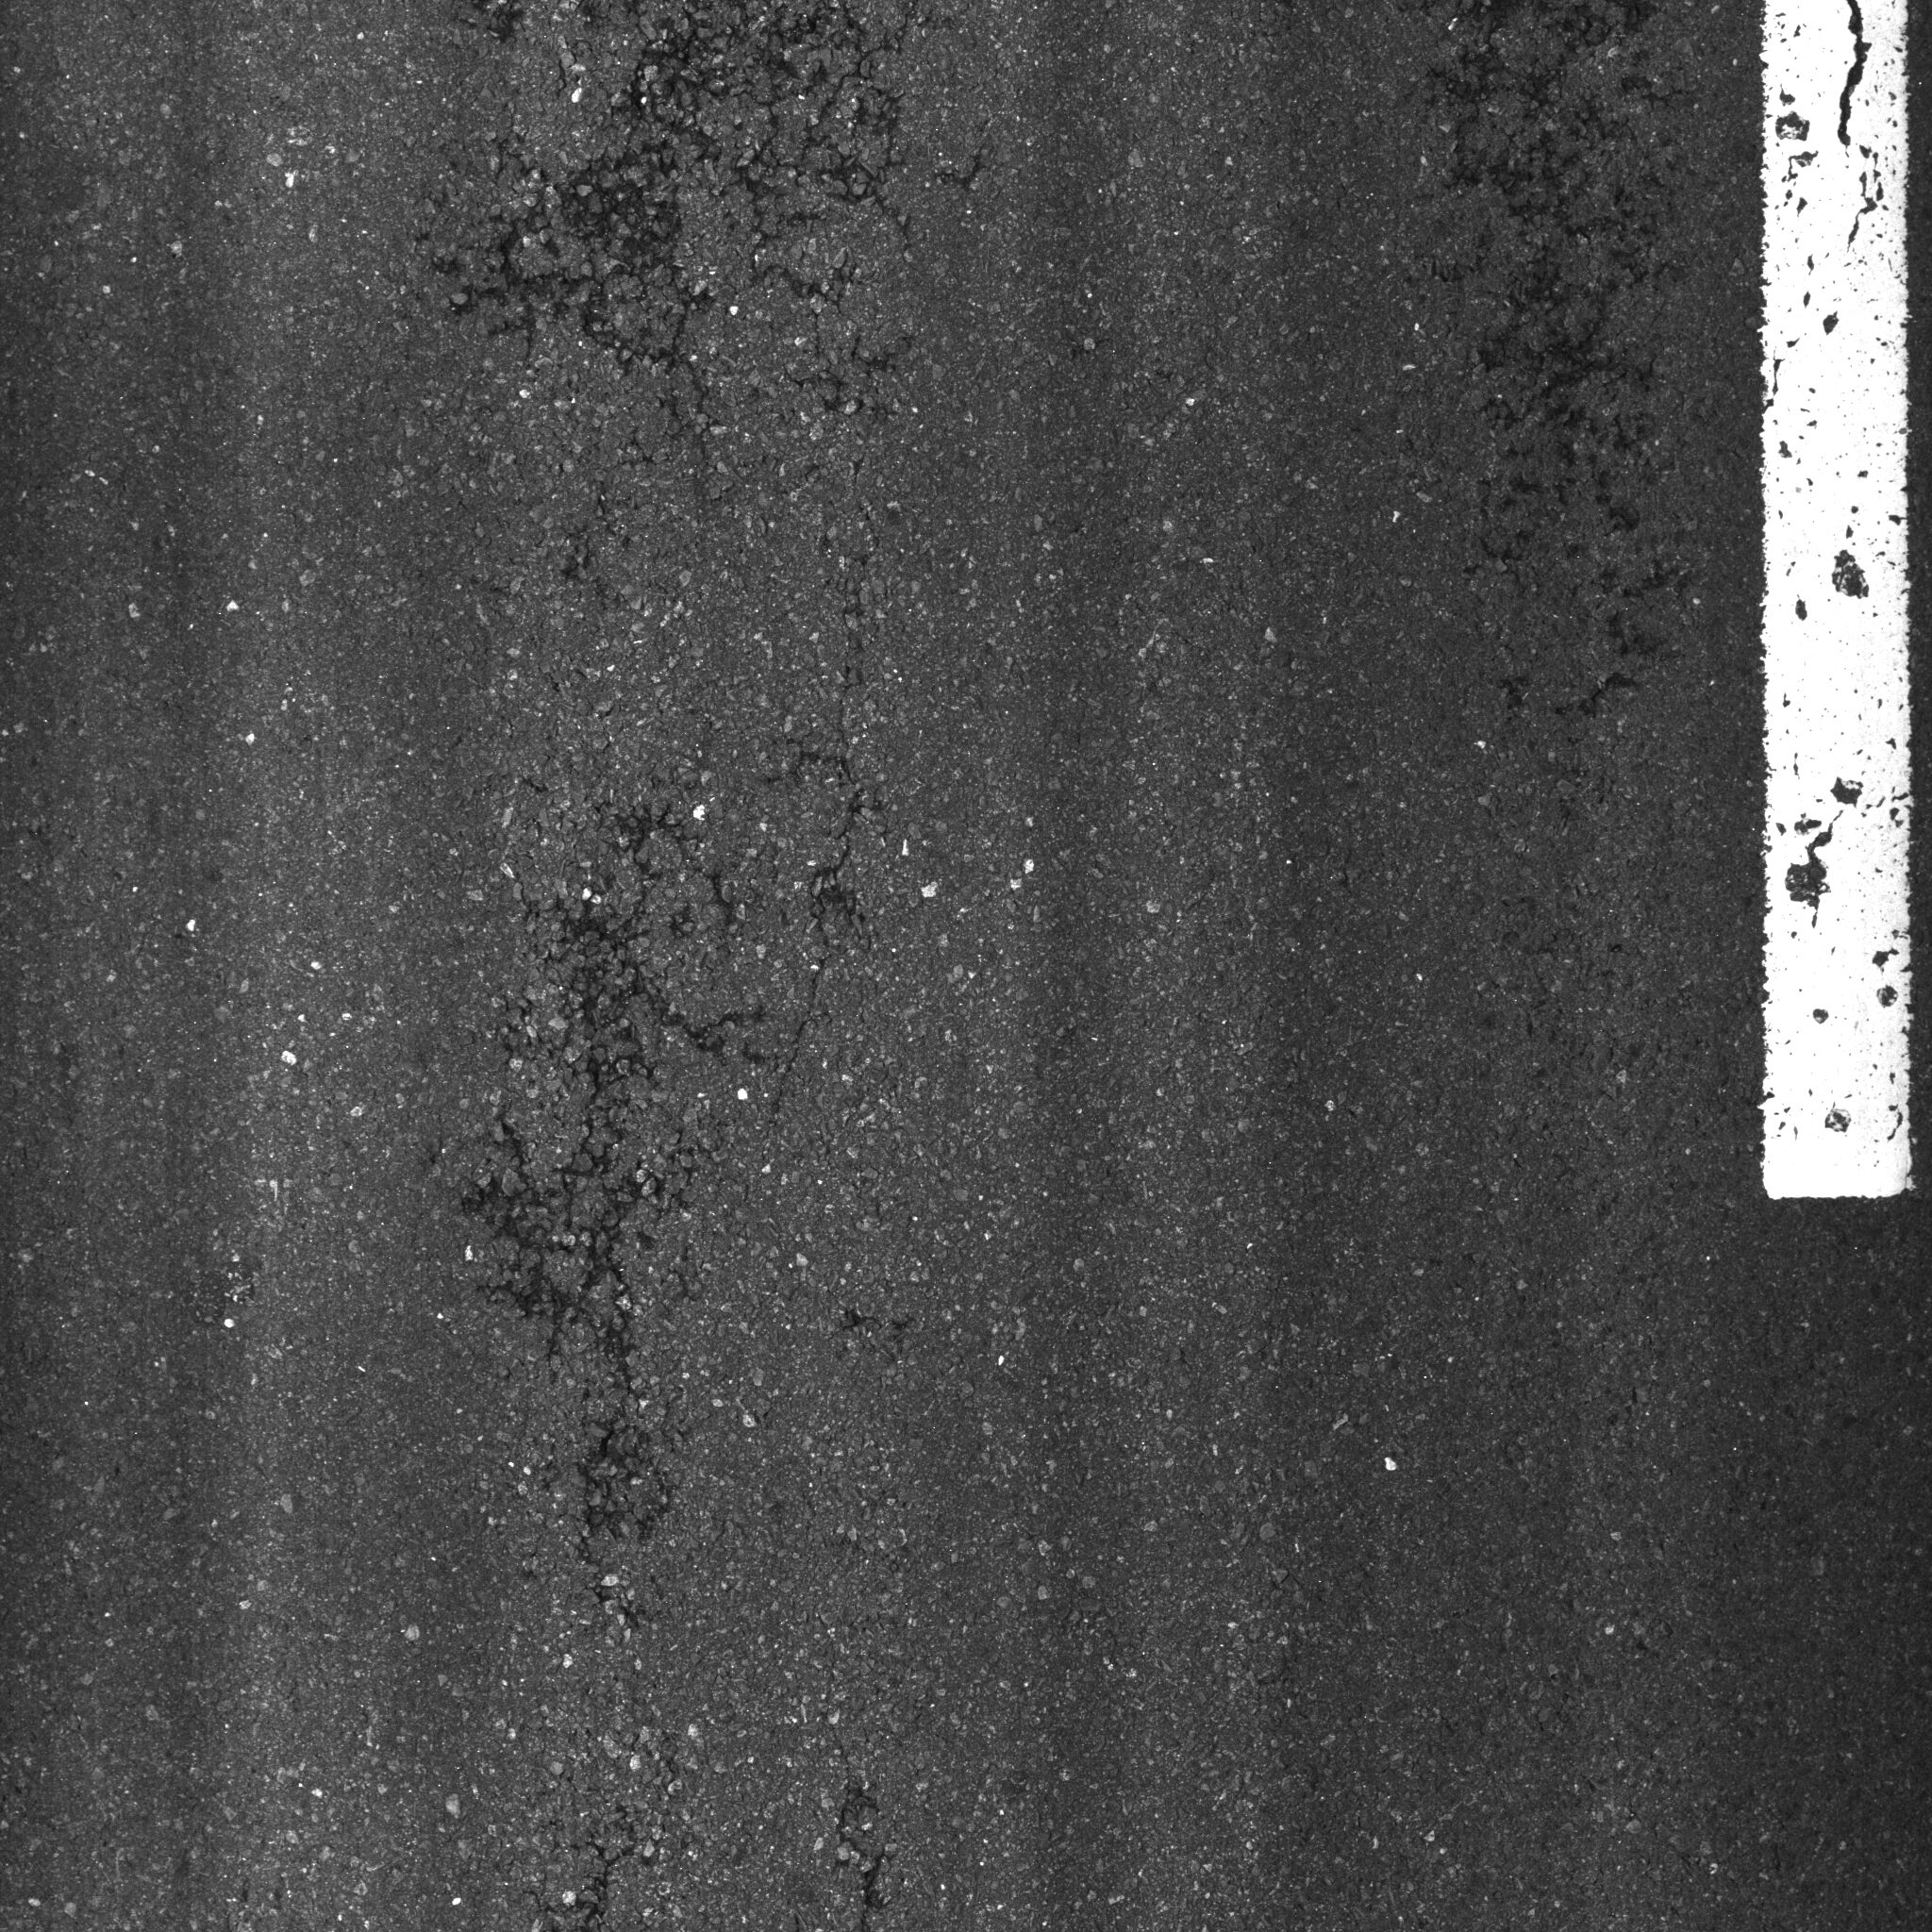alligator: (306, 27, 987, 1624)
